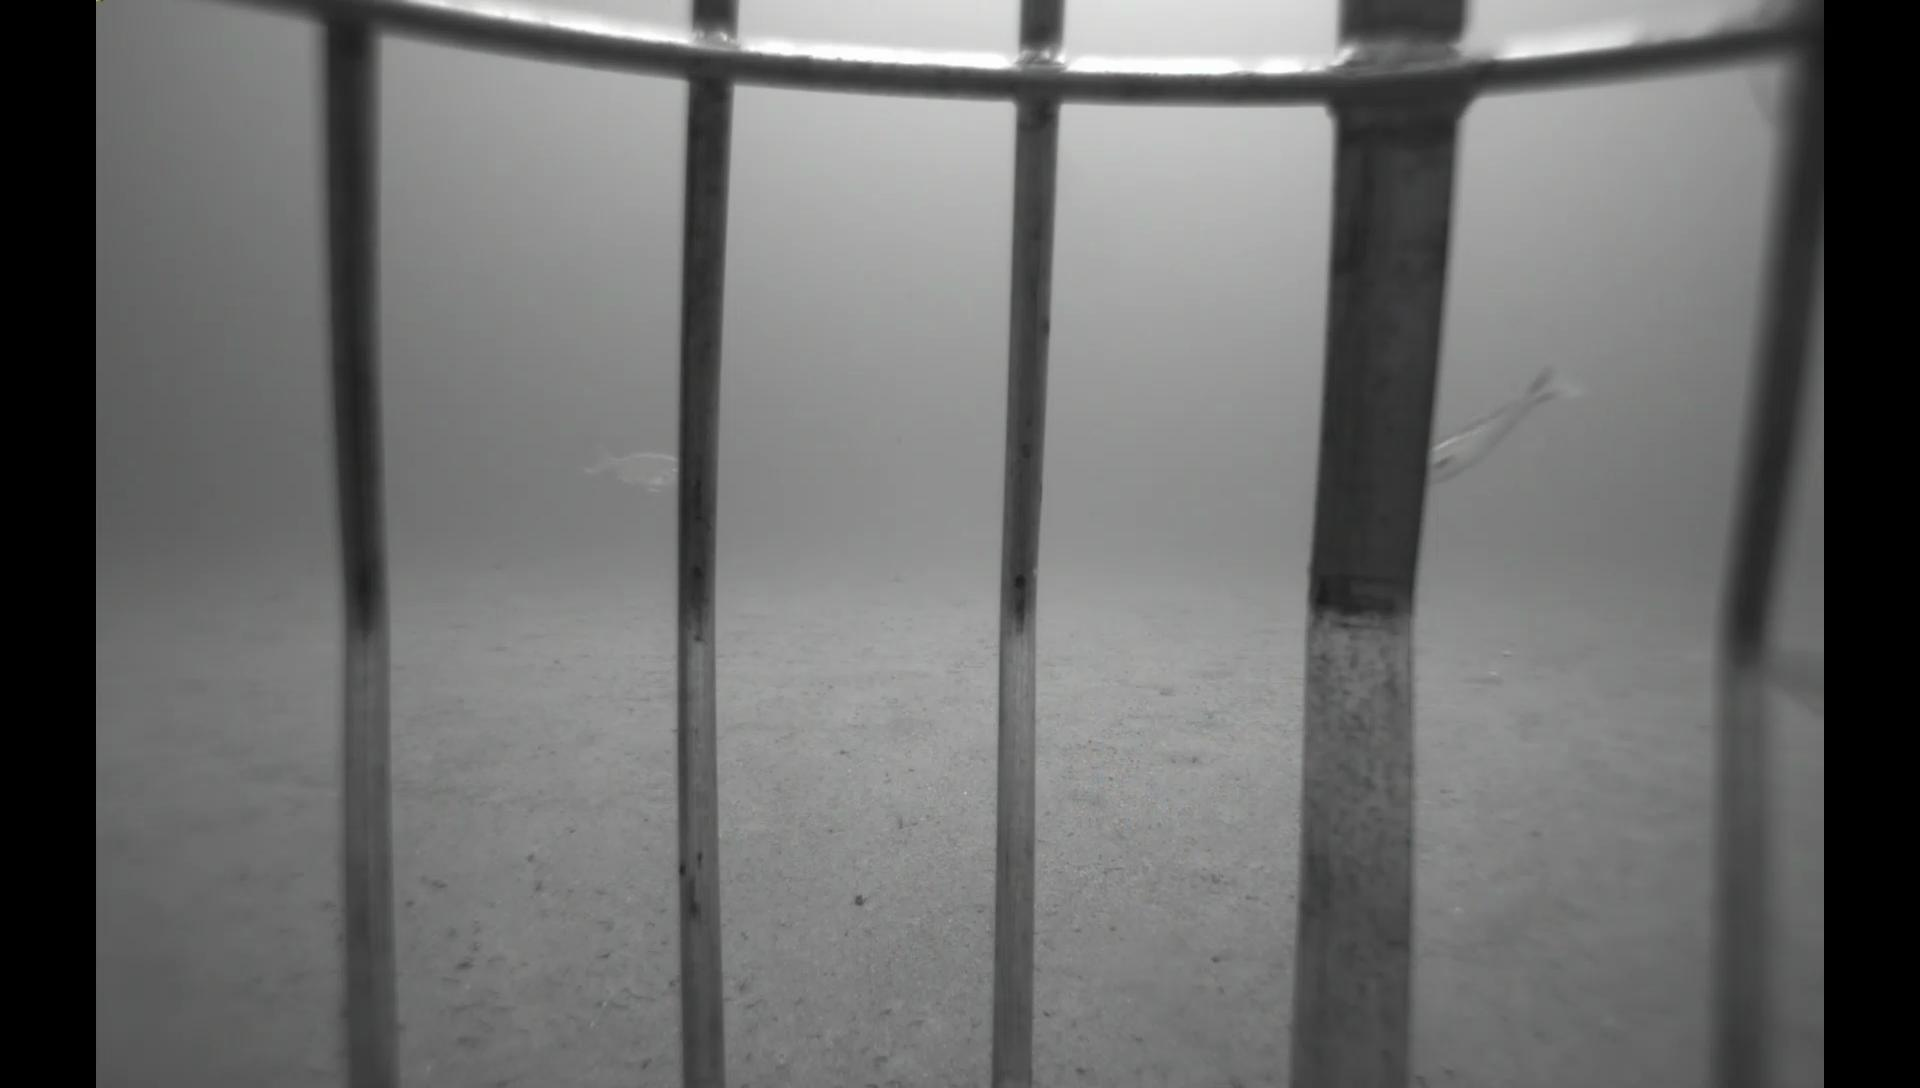CAULOLATILUSCYANOPS-170070101: (1428, 349, 1592, 496)
PRISTIPOMOIDES-170151800: (1676, 596, 1826, 728), (568, 429, 680, 505)
